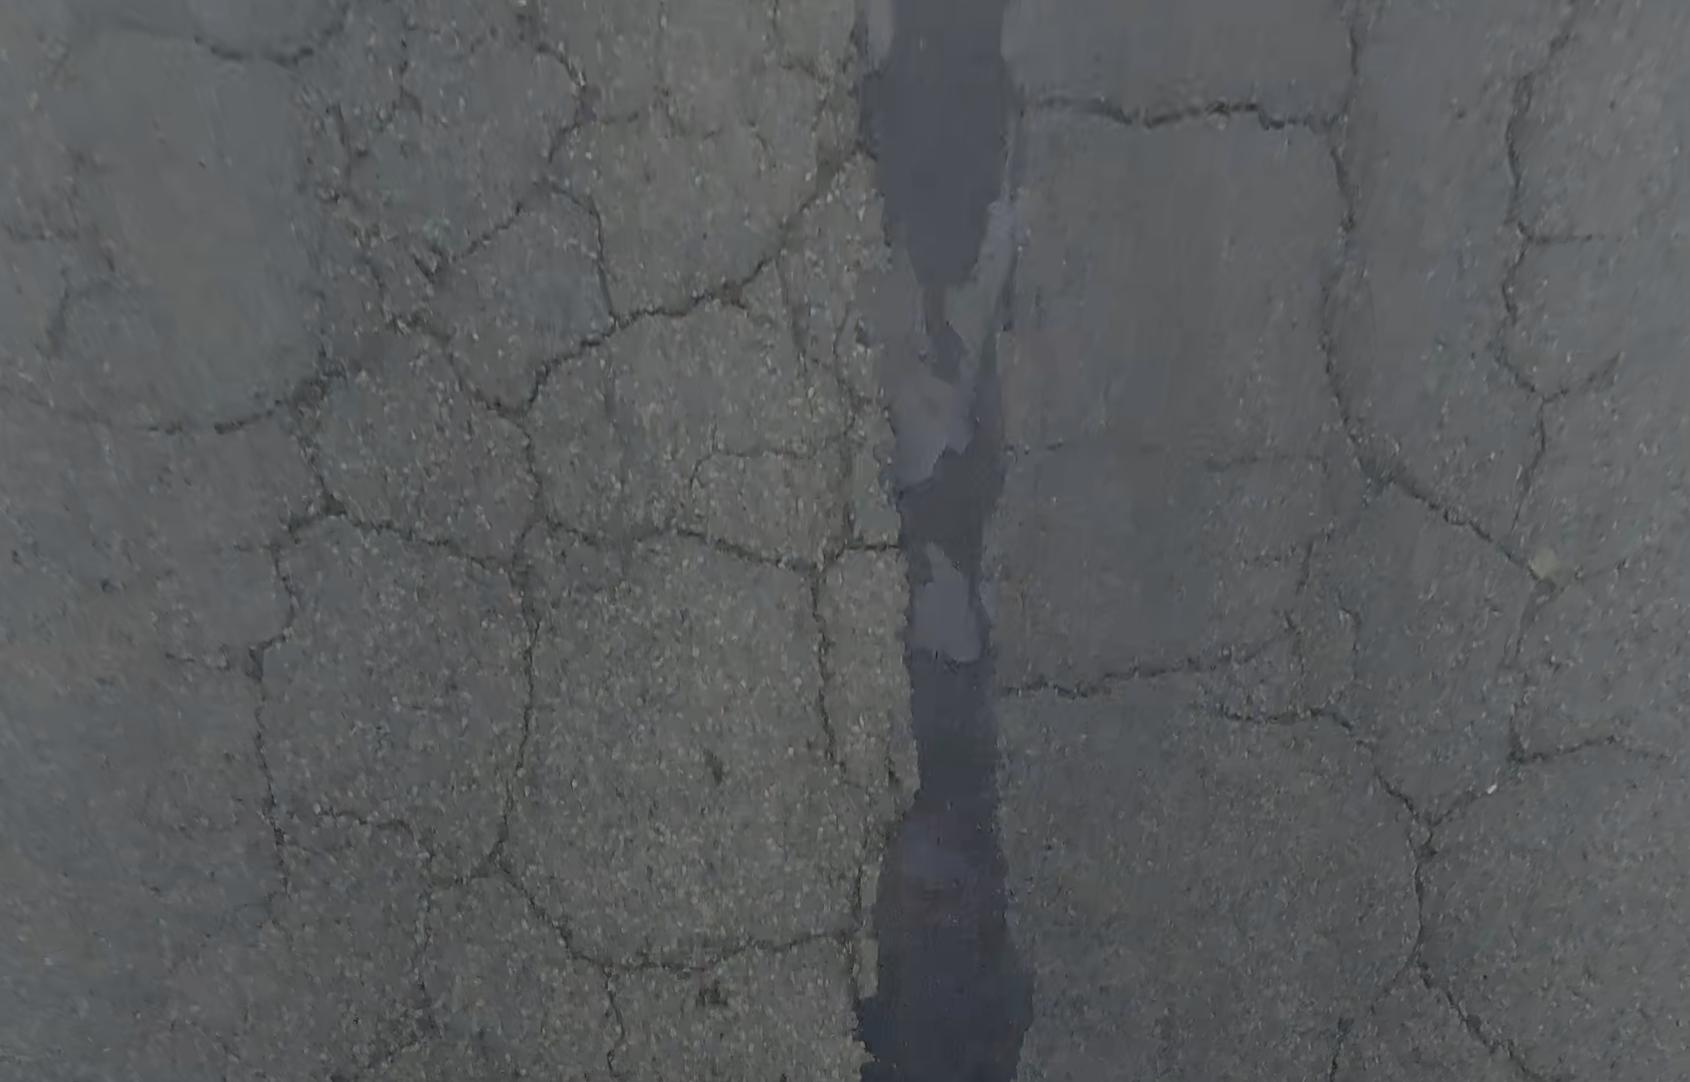pothole_patch_good: (860, 0, 1032, 1082)
